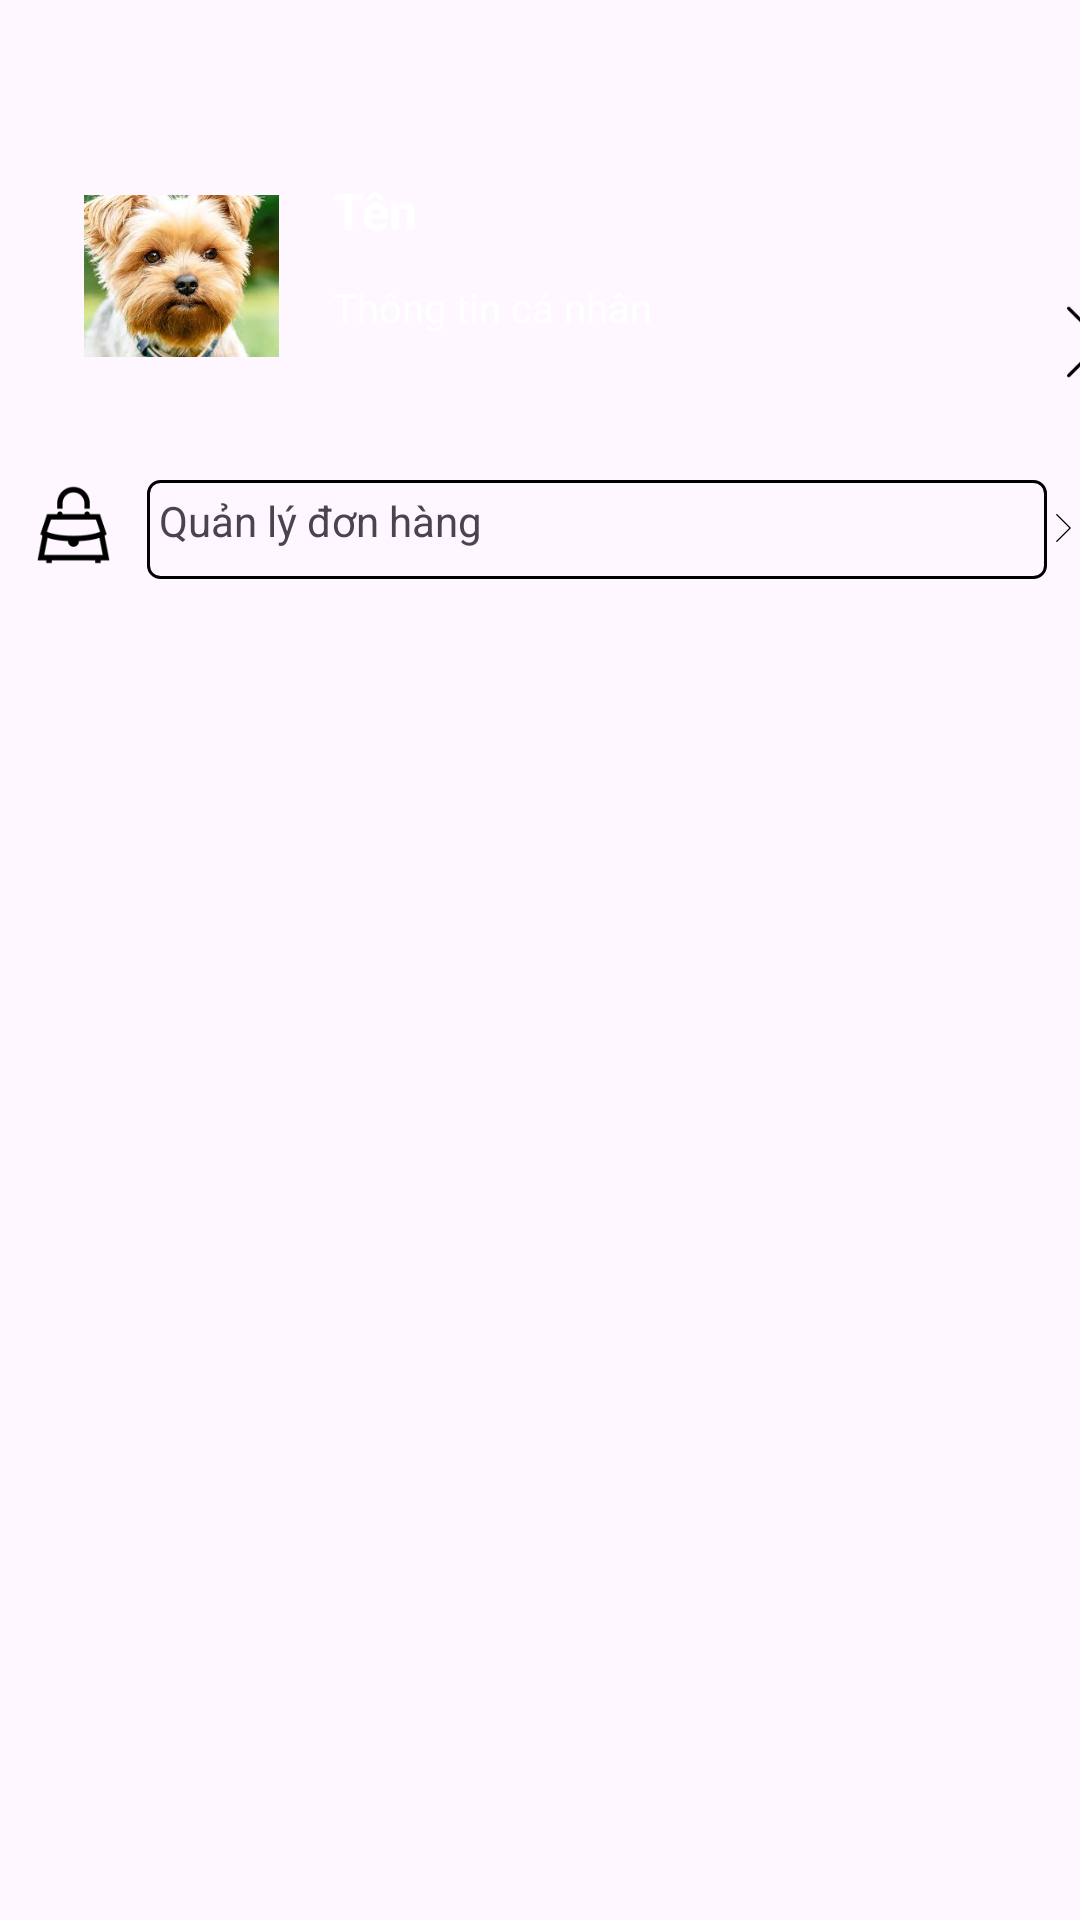

Named icons in this screenshot (1080 × 1920) and their centers, point (x, y):
bag: point (73, 525)
